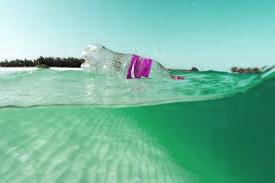Plastic: (66, 32, 190, 89)
